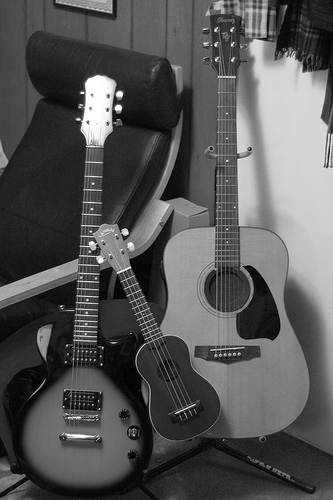guitar: (155, 9, 313, 443), (90, 219, 224, 441)
